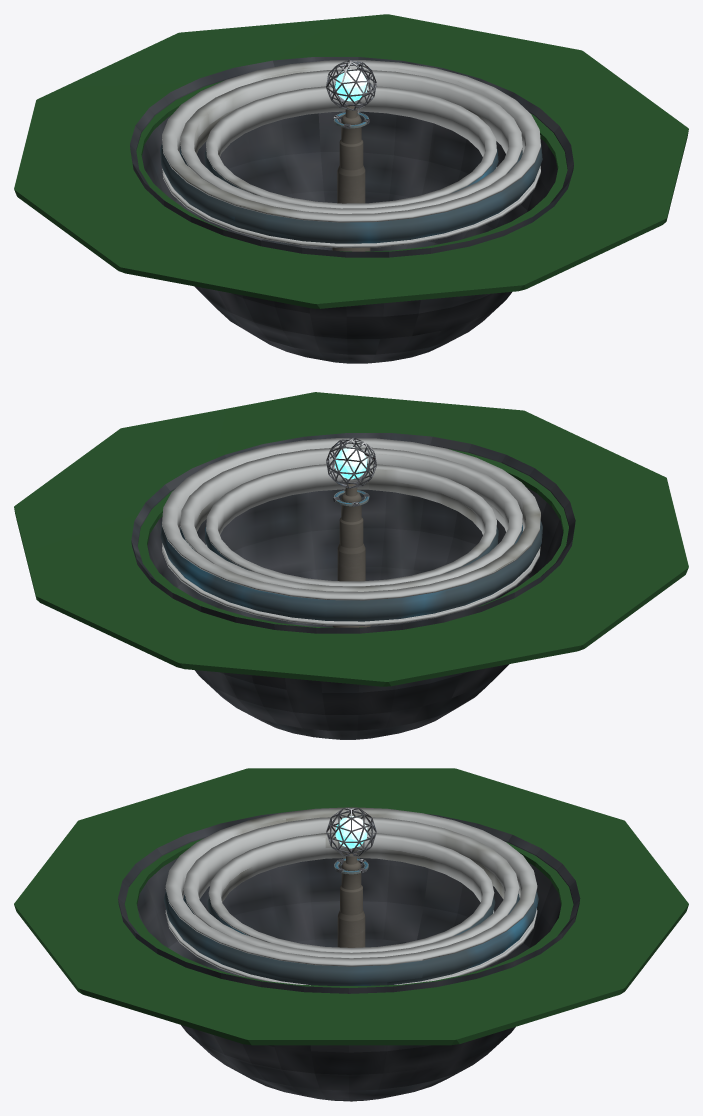
Rendered from reactor.glb.
The picture shows the model from 3 angles, top to bottom: view 1: azimuth 30°, elevation 25°; view 2: azimuth 150°, elevation 25°; view 3: azimuth 270°, elevation 25°; orthographic projection. The views are drawn at different scales.
Visible parts, largest first — view 1: Base, RingOuter, RingInner, RingMid, CenterPillar, CenterBall; view 2: Base, RingOuter, RingInner, RingMid, CenterPillar, CenterBall; view 3: Base, RingOuter, RingInner, RingMid, CenterPillar, CenterBall.
Boxes of the visible parts, x1,y1,x2,y2 form: Base: [14, 14, 688, 363]; RingOuter: [160, 60, 542, 247]; RingInner: [204, 86, 498, 208]; RingMid: [179, 69, 522, 213]; CenterPillar: [326, 59, 376, 251]; CenterBall: [335, 68, 367, 101]; Base: [14, 392, 688, 739]; RingOuter: [160, 438, 542, 625]; RingInner: [204, 463, 498, 586]; RingMid: [180, 447, 522, 591]; CenterPillar: [326, 437, 376, 627]; CenterBall: [335, 446, 367, 479]; Base: [14, 768, 688, 1101]; RingOuter: [164, 807, 538, 985]; RingInner: [207, 832, 495, 952]; RingMid: [183, 817, 519, 958]; CenterPillar: [326, 808, 376, 1101]; CenterBall: [335, 816, 367, 848].
Size of the model in its own units: 114 by 55.69 by 120.
Materials: 8 (6 with a texture image).
